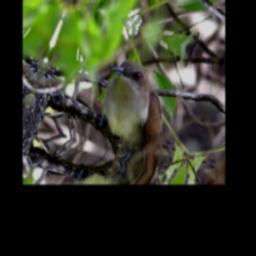Cuckoo: (80, 53, 190, 175)
